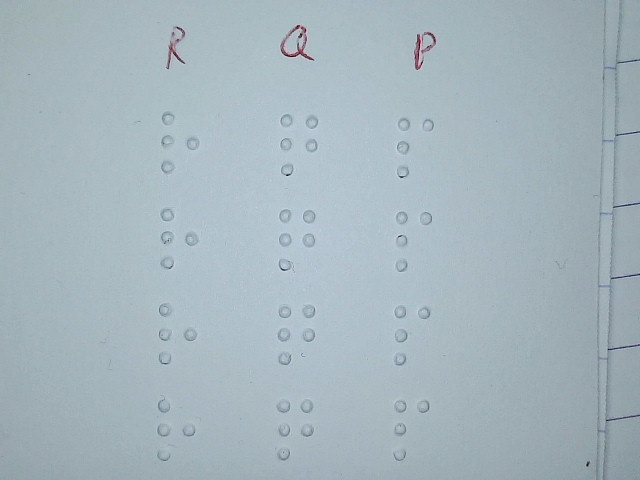P: (394, 112, 437, 180), (392, 207, 435, 275), (390, 300, 433, 368), (390, 395, 433, 463)
Q: (278, 110, 321, 178), (276, 205, 319, 273), (275, 300, 318, 368), (274, 394, 317, 462)
R: (159, 109, 202, 177), (157, 203, 200, 271), (156, 300, 199, 368), (155, 395, 198, 463)
